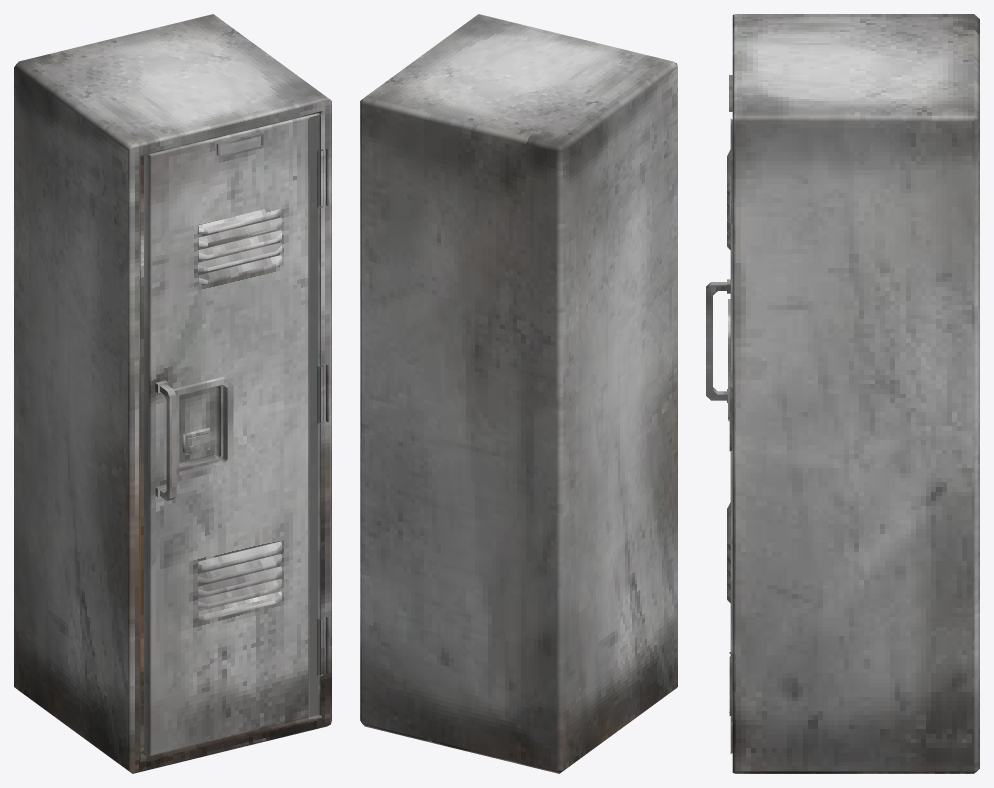
Rendered from locker.glb.
3 renders of one model, left to right at view 1: azimuth 30°, elevation 25°; view 2: azimuth 150°, elevation 25°; view 3: azimuth 270°, elevation 25°, orthographic. The views are drawn at different scales.
Parts seen in each view (by area): view 1: LockerBody, LockerDoorMesh; view 2: LockerBody; view 3: LockerBody, LockerDoorMesh.
Boxes of the visible parts, left/top/right/bottom form: LockerBody: left=14, top=14, right=331, bottom=773; LockerDoorMesh: left=144, top=113, right=328, bottom=755; LockerBody: left=360, top=14, right=677, bottom=773; LockerBody: left=729, top=14, right=979, bottom=773; LockerDoorMesh: left=706, top=75, right=732, bottom=715.
Size of the model in its own units: 0.6786 by 2 by 0.7516.
1 material, 1 textured.
